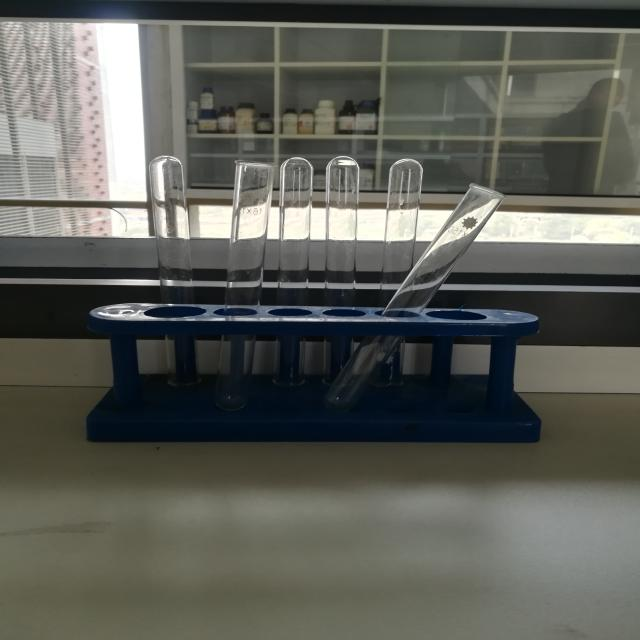Test_Tube: (132, 105, 538, 461)
